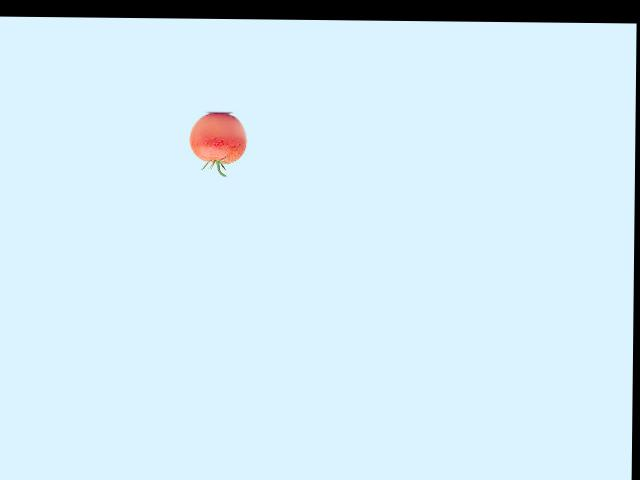tomato: (188, 113, 246, 163)
